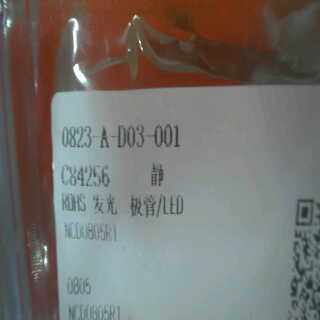LED: (90, 193, 188, 216)
